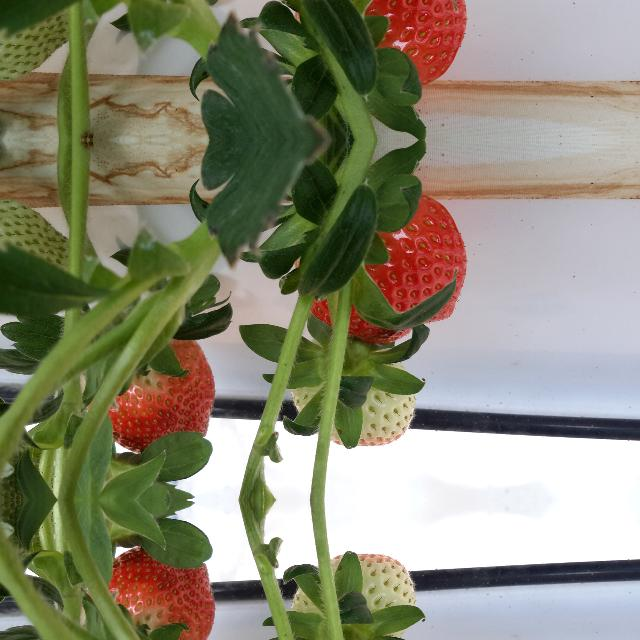Health_100: (294, 183, 468, 335), (294, 0, 467, 97), (108, 338, 216, 452), (108, 548, 216, 640)
Health_50: (291, 337, 414, 447), (290, 553, 413, 640)
